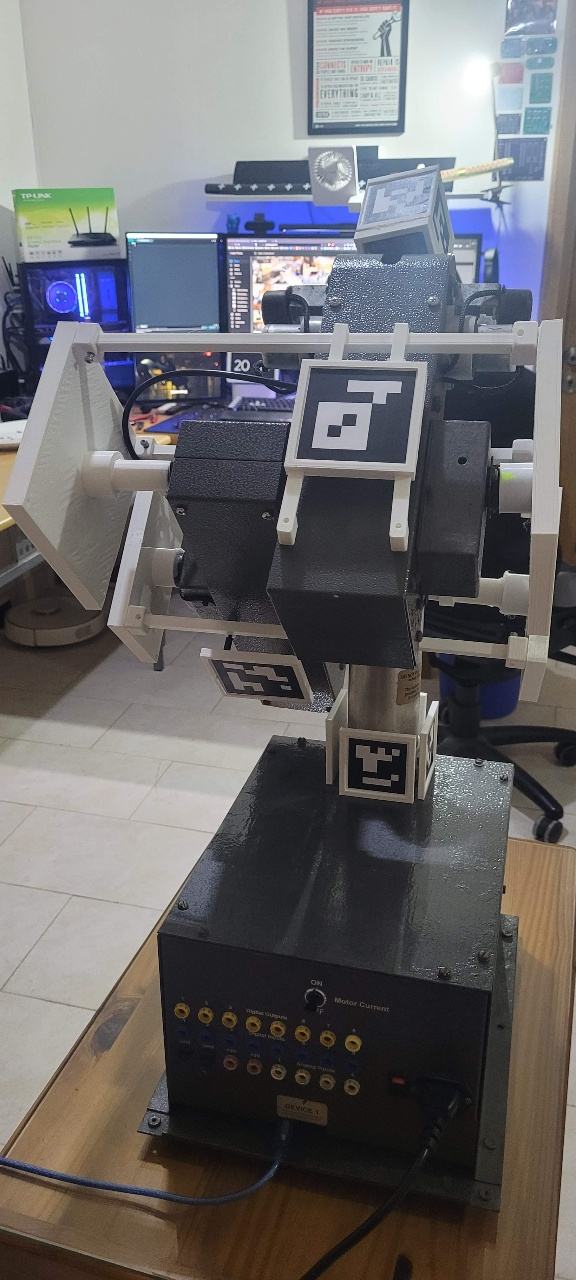Robot: (1, 161, 565, 805)
